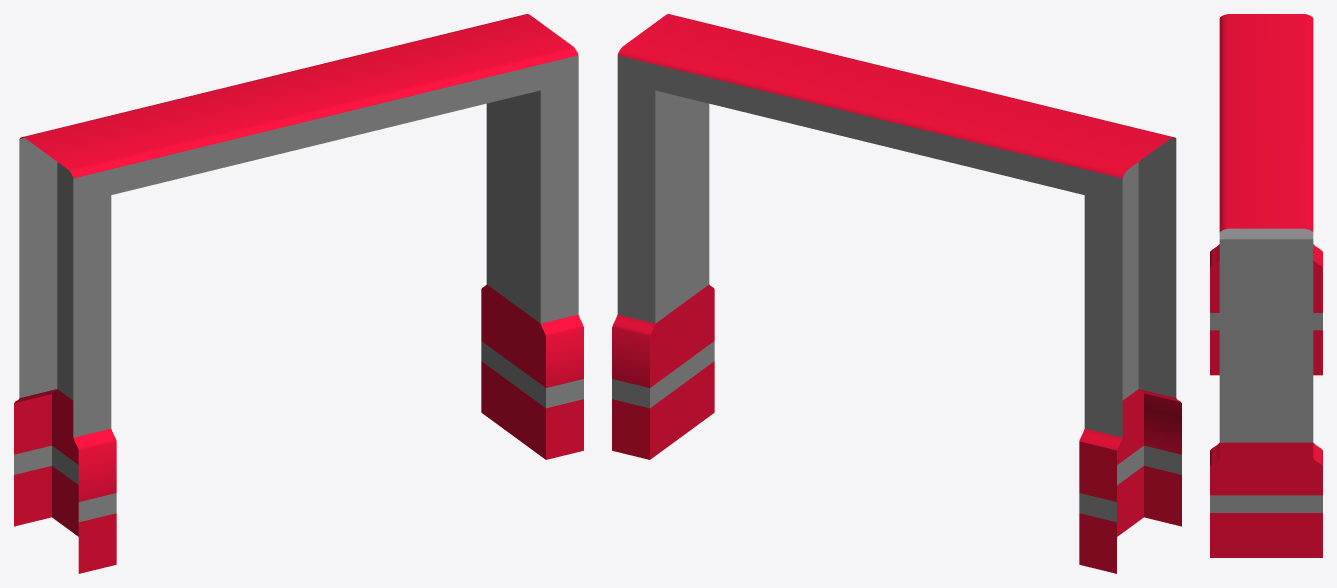
File: WallContour_Model.FBX
3 renders of one model, left to right at view 1: azimuth 30°, elevation 25°; view 2: azimuth 150°, elevation 25°; view 3: azimuth 270°, elevation 25°, orthographic. The views are drawn at different scales.
Parts seen in each view (by area): view 1: WallContour_Model; view 2: WallContour_Model; view 3: WallContour_Model.
Part boxes in pixels (x1,y1,x2,y2): WallContour_Model: (14,14,583,573); WallContour_Model: (612,14,1181,573); WallContour_Model: (1210,14,1322,557).
Bounding box in the file's own units: 200 × 150 × 44.4.
